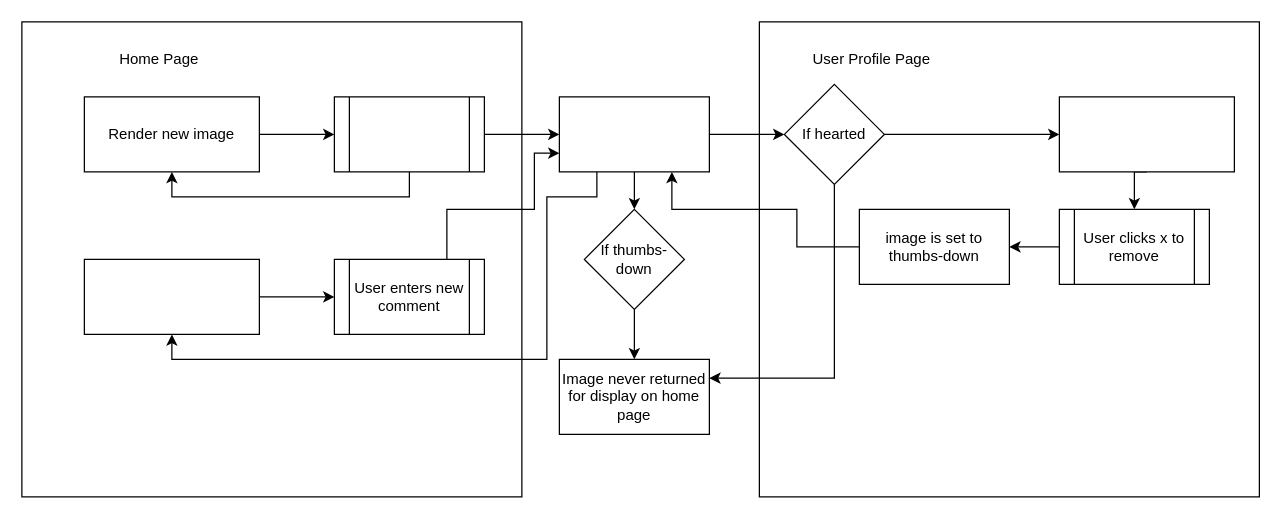
Some shapes in this 1281 by 519 pixel diagram are drawn without their labels. The shapes that lost their labels are listed below. From the top down, each one's centre as x and y in pixels, then its label:
At pixel 408 134: "User chooses heart or thumbs-down".
At pixel 633 134: "Local Storage".
At pixel 1146 134: "Hearted images display".
At pixel 171 296: "Render comment section".
